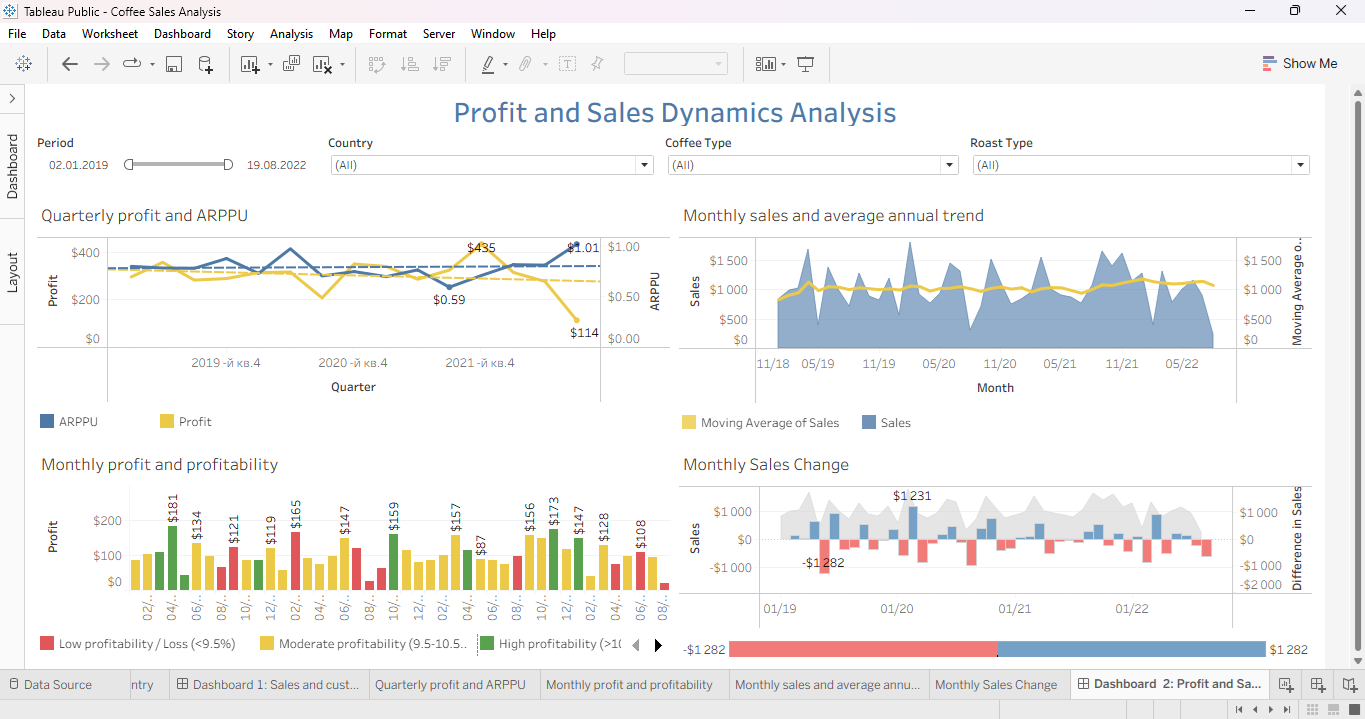

The dashboard page shown, as its layout file describes it:
{"tool":"tableau","page":{"name":"Dashboard  2: Profit and Sales Dynamics Analysis","canvas":[1000,1000],"units":"permille","ordinal":0},"visuals":[{"type":"text","box":[6.2,11.4,987.7,65.4]},{"type":"filter","title":"Monthly Sales Change","param":"[federated.1yeuhn30susrmr14ownrd0e1zkn2].[none:Order Date:qk]","box":[6.2,76.8,223.9,111.8]},{"type":"filter","title":"Monthly Sales Change","param":"[federated.1yeuhn30susrmr14ownrd0e1zkn2].[none:Country (customers):nk]","box":[230.1,76.8,259.1,111.8]},{"type":"filter","title":"Monthly Sales Change","param":"[federated.1yeuhn30susrmr14ownrd0e1zkn2].[none:Coffee Type (products):nk]","box":[489.2,76.8,234.4,111.8]},{"type":"filter","title":"Monthly Sales Change","param":"[federated.1yeuhn30susrmr14ownrd0e1zkn2].[none:Roast Type (products):nk]","box":[723.5,76.8,270.3,111.8]},{"type":"worksheet","title":"Quarterly profit and ARPPU","mark":"Automatic","rows":["Calculation_1317506236809219","Calculation_1317506292760581"],"cols":["Order Date"],"box":[6.2,188.6,493.9,363.8]},{"type":"worksheet","title":"Monthly sales and average annual trend","mark":"Area","rows":["Calculation_1317506236375042"],"cols":["Order Date"],"box":[500,188.6,493.9,365.4]},{"type":"legend","title":"Quarterly profit and ARPPU","param":"[federated.1yeuhn30susrmr14ownrd0e1zkn2].[:Measure Names]","box":[6.2,552.4,493.9,51.4]},{"type":"legend","title":"Monthly sales and average annual trend","param":"[federated.1yeuhn30susrmr14ownrd0e1zkn2].[:Measure Names]","box":[500,554.1,493.9,61.8]},{"type":"worksheet","title":"Monthly profit and profitability","mark":"Bar","rows":["Calculation_1317506236809219"],"cols":["Order Date"],"box":[6.2,615.9,494.2,327]},{"type":"worksheet","title":"Monthly Sales Change","mark":"Area","rows":["Calculation_1317506236375042","Calculation_1317506236375042"],"cols":["Order Date"],"box":[500.3,615.9,493.5,324]},{"type":"legend","title":"Monthly Sales Change","param":"[federated.1yeuhn30susrmr14ownrd0e1zkn2].[diff:usr:Calculation_1317506236375042:","box":[500.3,939.9,493.5,48.7]},{"type":"legend","title":"Monthly profit and profitability","param":"[federated.1yeuhn30susrmr14ownrd0e1zkn2].[usr:Calculation_1317506299760647:nk]","box":[6.2,942.9,494.2,45.7]}]}

Visuals, with their boxes on the dashboard's canvas, which has no fixed pixel size, in thousandths of its width and height (x1, y1, x2, y2). These are canvas units, not pixel positions in the 1365x719 screenshot, which may show the page scaled, cropped or inside an application window:
text: crop(6, 11, 994, 77)
"Monthly Sales Change" filter: crop(6, 77, 230, 189)
"Monthly Sales Change" filter: crop(230, 77, 489, 189)
"Monthly Sales Change" filter: crop(489, 77, 724, 189)
"Monthly Sales Change" filter: crop(724, 77, 994, 189)
"Quarterly profit and ARPPU" worksheet: crop(6, 189, 500, 552)
"Monthly sales and average annual trend" worksheet (Area marks): crop(500, 189, 994, 554)
"Quarterly profit and ARPPU" legend: crop(6, 552, 500, 604)
"Monthly sales and average annual trend" legend: crop(500, 554, 994, 616)
"Monthly profit and profitability" worksheet (Bar marks): crop(6, 616, 500, 943)
"Monthly Sales Change" worksheet (Area marks): crop(500, 616, 994, 940)
"Monthly Sales Change" legend: crop(500, 940, 994, 989)
"Monthly profit and profitability" legend: crop(6, 943, 500, 989)
